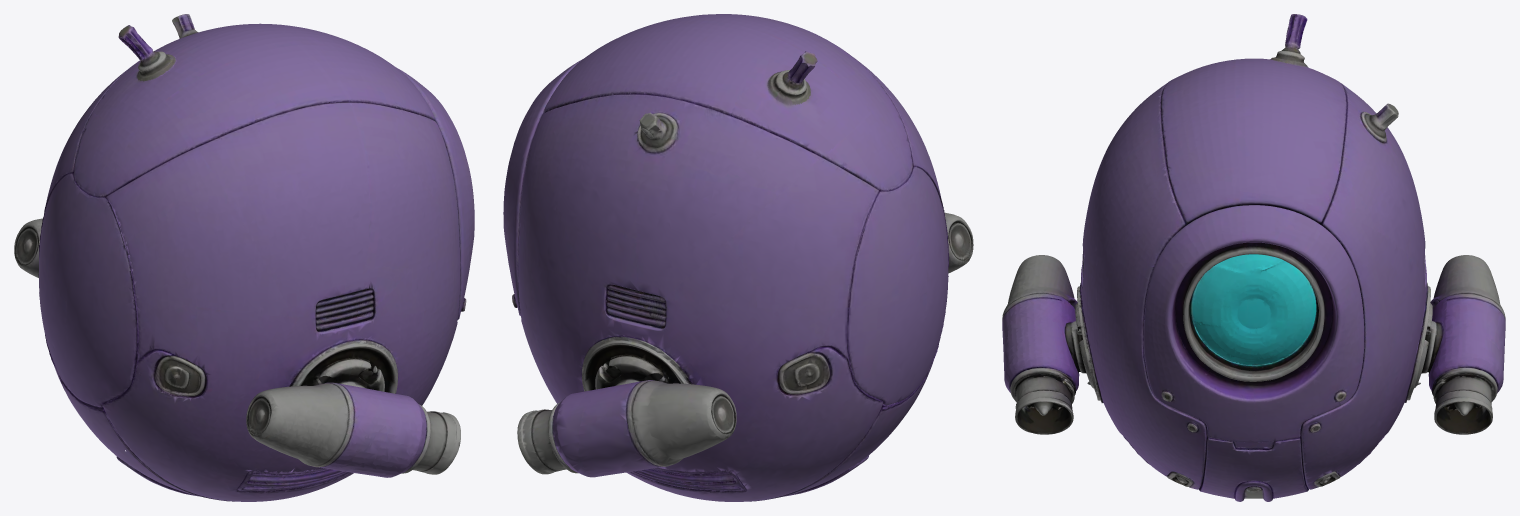
The model's file is fs-pod.glb.
The picture shows the model from 3 angles, left to right: view 1: azimuth 30°, elevation 25°; view 2: azimuth 150°, elevation 25°; view 3: azimuth 270°, elevation 25°; orthographic projection. The views are drawn at different scales.
Parts seen in each view (by area): view 1: tripo_node_e94e33ac-6d55-4ceb-bf54-7417ccbb7ad9; view 2: tripo_node_e94e33ac-6d55-4ceb-bf54-7417ccbb7ad9; view 3: tripo_node_e94e33ac-6d55-4ceb-bf54-7417ccbb7ad9.
Part boxes in pixels (x1,y1,x2,y2): tripo_node_e94e33ac-6d55-4ceb-bf54-7417ccbb7ad9: (14, 14, 474, 501); tripo_node_e94e33ac-6d55-4ceb-bf54-7417ccbb7ad9: (503, 14, 973, 501); tripo_node_e94e33ac-6d55-4ceb-bf54-7417ccbb7ad9: (1002, 14, 1505, 501).
Size of the model in its own units: 0.7843 by 0.9339 by 0.9991.
1 material, 1 textured.
